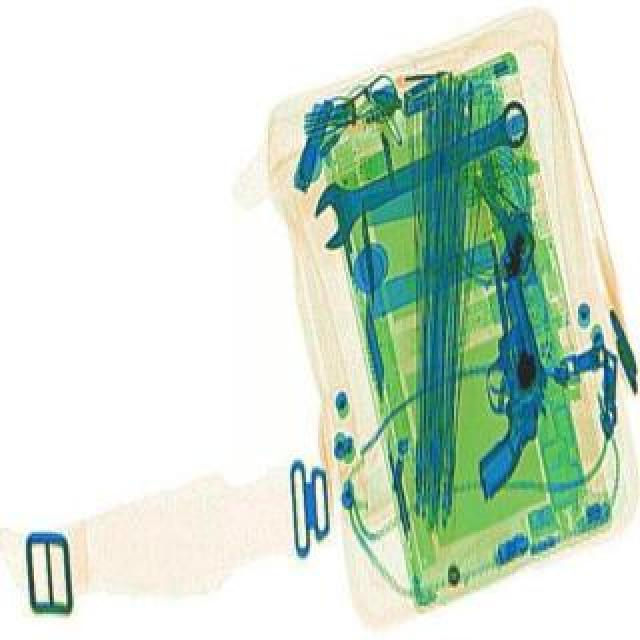gun: (438, 282, 570, 504)
scissors: (302, 96, 550, 258)
